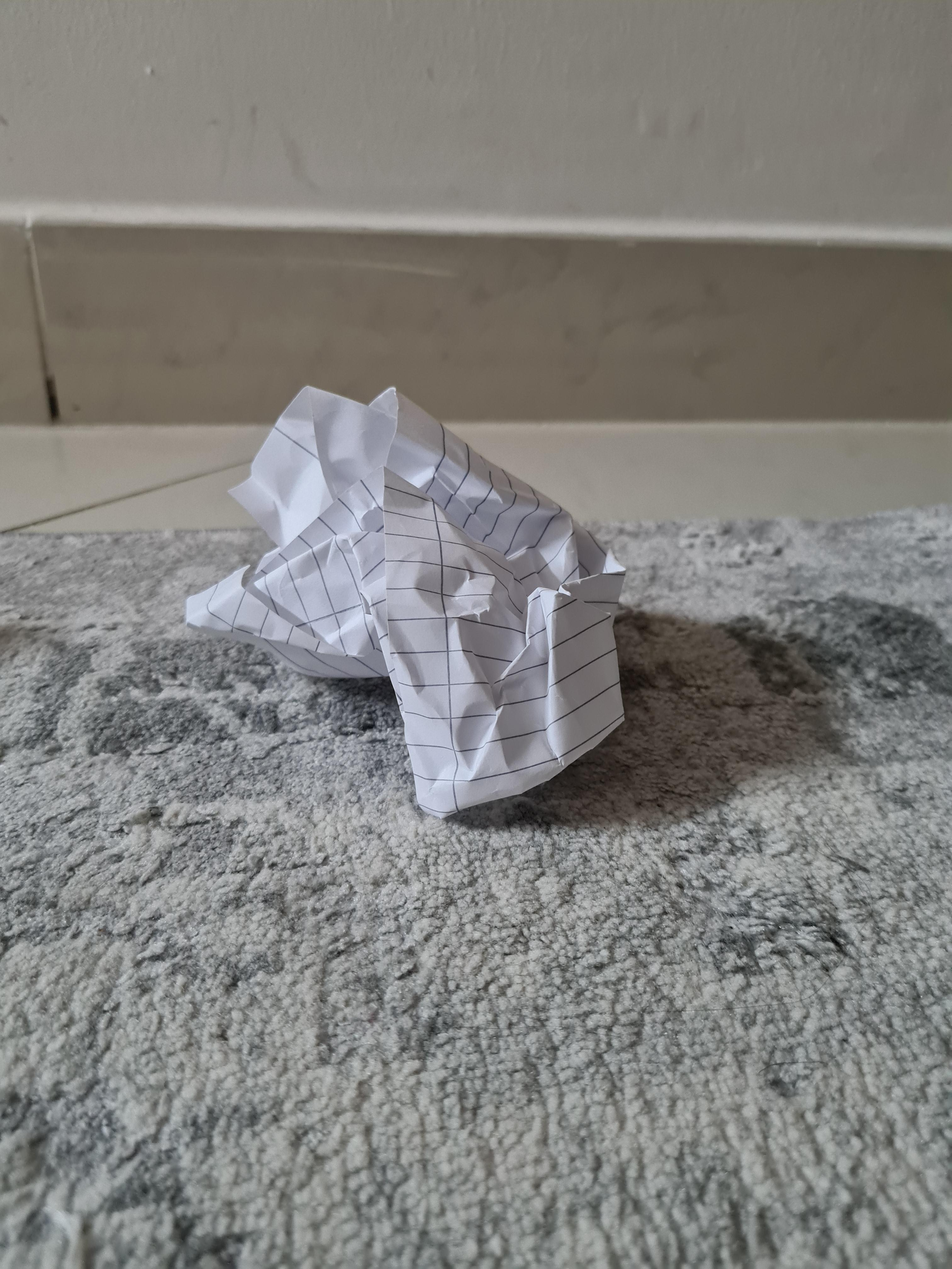paper: (190, 378, 647, 838)
